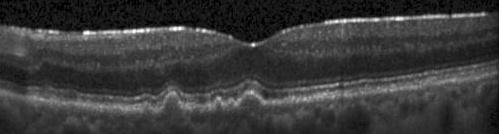retinal_drusen: (240, 93, 263, 109), (164, 95, 181, 113), (142, 105, 152, 116), (214, 99, 221, 109), (227, 100, 234, 108), (192, 105, 200, 112), (204, 103, 211, 111)
